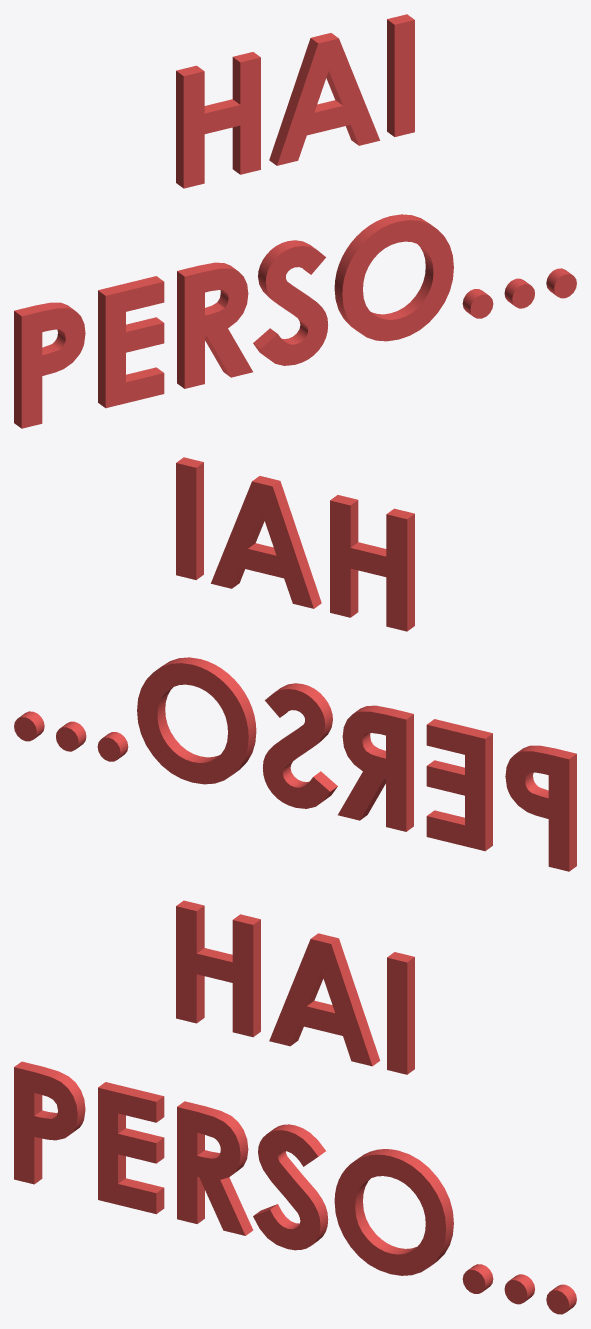
File: YouLost.fbx
3 views of the same model, one above another, from view 1: azimuth 30°, elevation 25°; view 2: azimuth 150°, elevation 25°; view 3: azimuth 330°, elevation 25° (orthographic).
Parts seen in each view (by area): view 1: HAI_PERSO___1; view 2: HAI_PERSO___1; view 3: HAI_PERSO___1.
Part boxes in pixels (left/top/right/bottom): HAI_PERSO___1: left=14, top=14, right=576, bottom=428; HAI_PERSO___1: left=14, top=457, right=576, bottom=871; HAI_PERSO___1: left=14, top=900, right=576, bottom=1314.
Size of the model in its own units: 1.24 by 0.6729 by 0.03.
